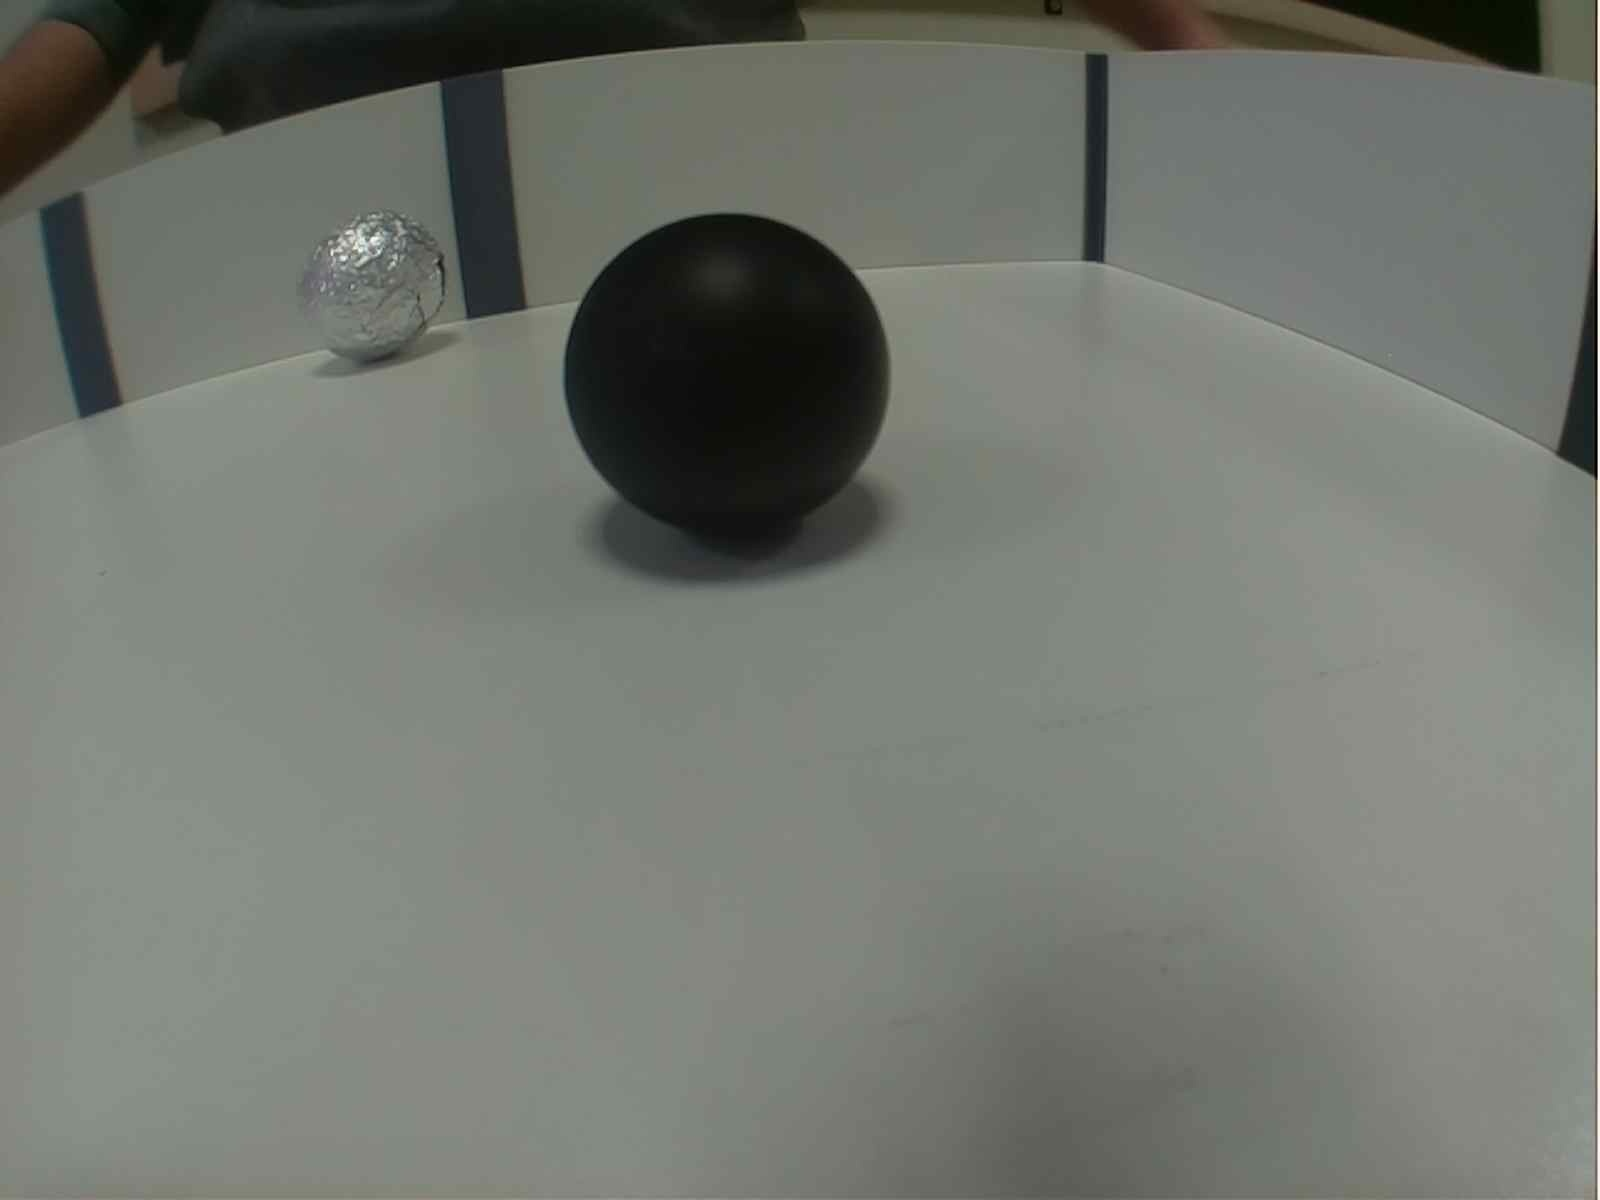bianca: (299, 205, 451, 371)
nera: (561, 211, 900, 547)
